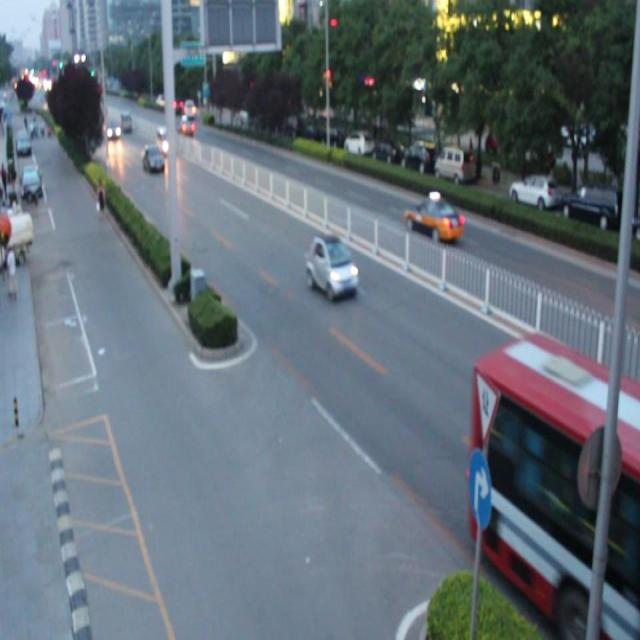car: (304, 233, 356, 302), (403, 198, 461, 241), (142, 144, 165, 174)
truck: (154, 126, 175, 153)
van: (471, 329, 640, 640)
